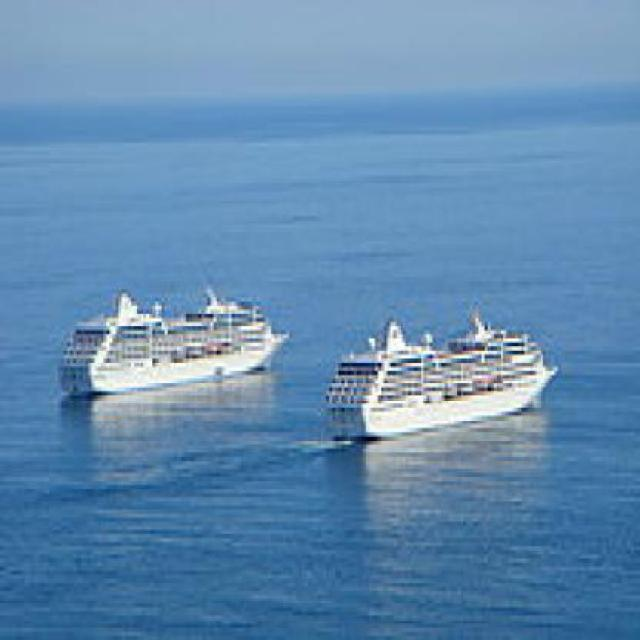cruise: (314, 306, 571, 454), (54, 286, 297, 405)
